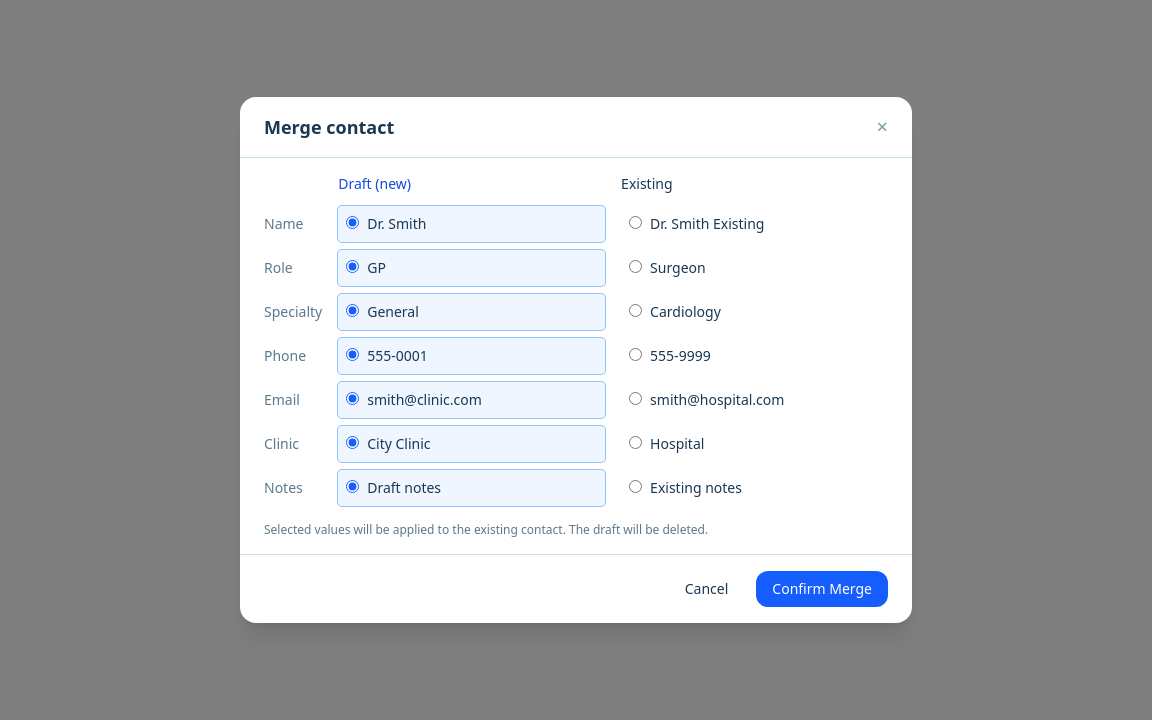
Test: MergeEntityDialog › shows Merging… label while submitting
The width and height of the screenshot is (1152, 720).
Click the button "Confirm Merge". click: [822, 589]
box: [756,571,888,607]
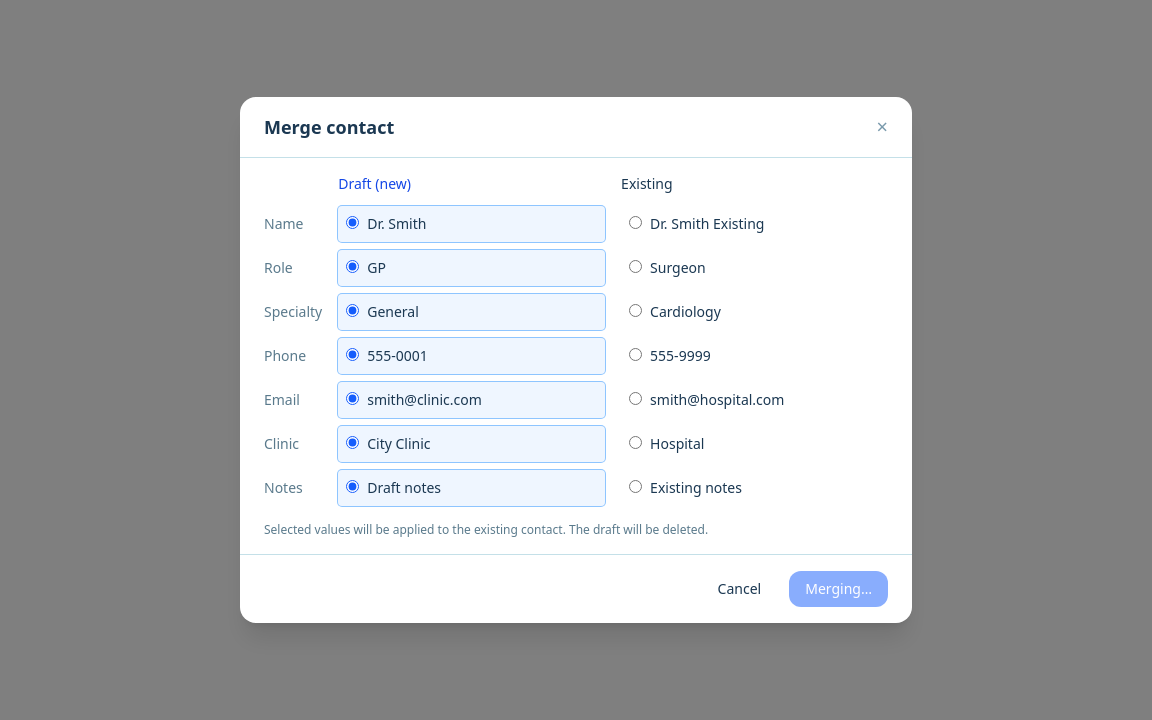
Now the button "Merging…" is shown, box [789,571,888,607]
